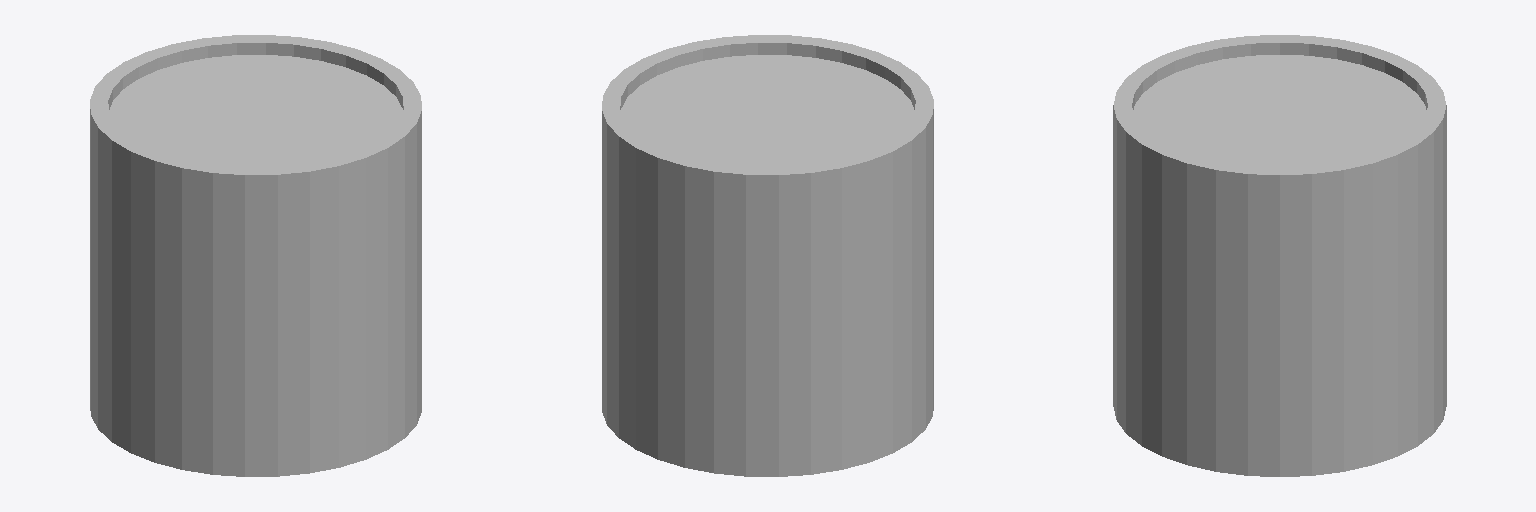
Rendered from barrel.obj.
The picture shows the model from 3 angles: view 1: azimuth 30°, elevation 25°; view 2: azimuth 150°, elevation 25°; view 3: azimuth 270°, elevation 25°; orthographic projection.
Parts seen in each view (by area): view 1: Cylinder; view 2: Cylinder; view 3: Cylinder.
Part boxes in pixels (x1,y1,x2,y2): Cylinder: (90,35,421,476); Cylinder: (602,35,933,476); Cylinder: (1113,35,1446,476).
Size of the model in its own units: 1.14 by 1.14 by 1.14.